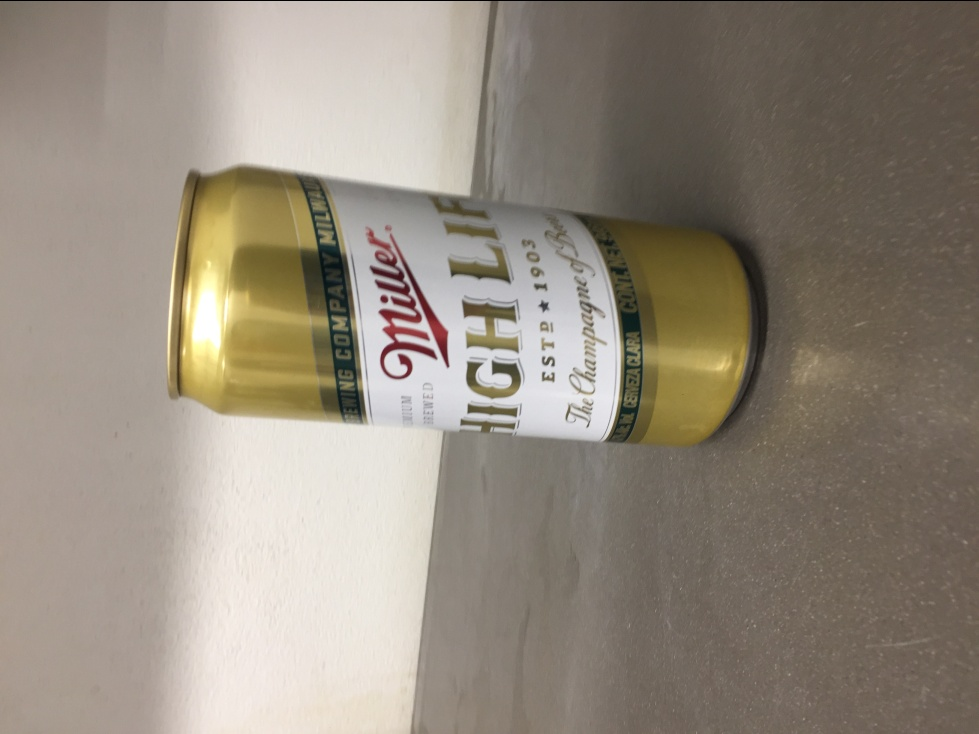miller: (150, 159, 771, 451)
